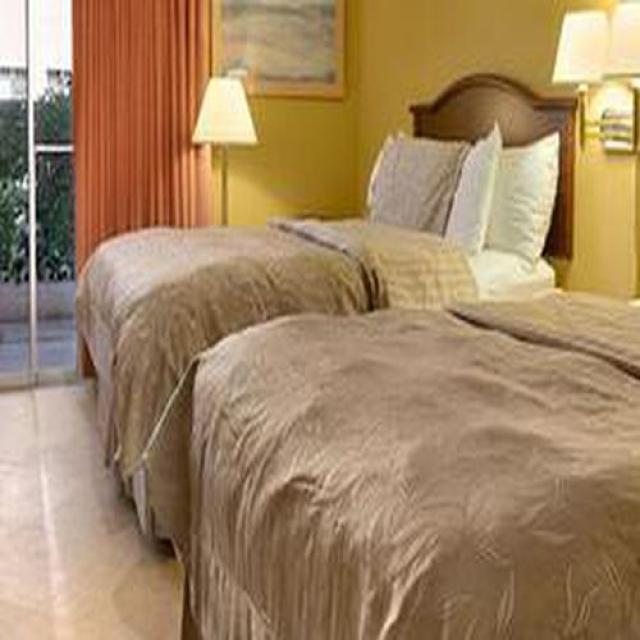bed: (77, 74, 566, 559)
